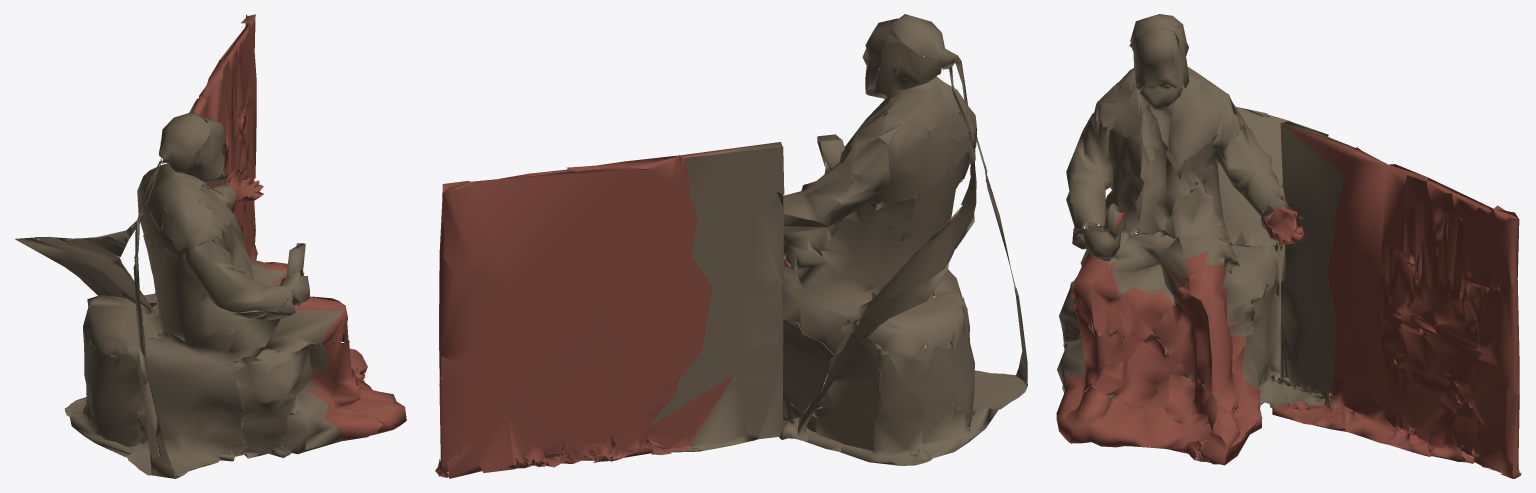
Rendered from joule-h31-far.glb.
3 views of the same model, side by side, from view 1: azimuth 30°, elevation 25°; view 2: azimuth 150°, elevation 25°; view 3: azimuth 270°, elevation 25° (orthographic). The views are drawn at different scales.
Visible parts, largest first — view 1: tripo_node_3bce2749-7714-4c9b-ae15-39da99f14135; view 2: tripo_node_3bce2749-7714-4c9b-ae15-39da99f14135; view 3: tripo_node_3bce2749-7714-4c9b-ae15-39da99f14135.
Part boxes in pixels (x1,y1,x2,y2): tripo_node_3bce2749-7714-4c9b-ae15-39da99f14135: (15, 14, 406, 478); tripo_node_3bce2749-7714-4c9b-ae15-39da99f14135: (435, 14, 1027, 478); tripo_node_3bce2749-7714-4c9b-ae15-39da99f14135: (1056, 14, 1521, 478).
Bounding box in the file's own units: 2.05 × 1.94 × 2.36.
